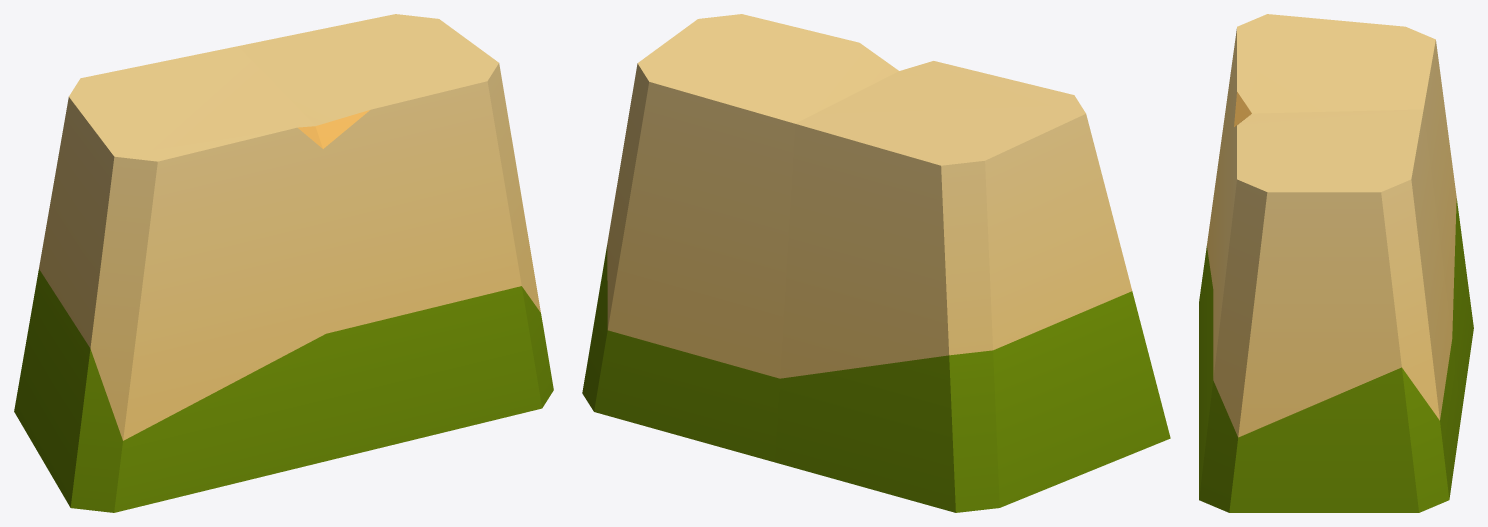
File: Rock_07.fbx
3 renders of one model, left to right at view 1: azimuth 30°, elevation 25°; view 2: azimuth 150°, elevation 25°; view 3: azimuth 270°, elevation 25°, orthographic. The views are drawn at different scales.
Parts seen in each view (by area): view 1: Rock_07; view 2: Rock_07; view 3: Rock_07.
Boxes of the visible parts, x1,y1,x2,y2 form: Rock_07: (14,14,553,512); Rock_07: (582,14,1170,512); Rock_07: (1199,14,1473,512).
Size of the model in its own units: 608 by 386 by 315.
